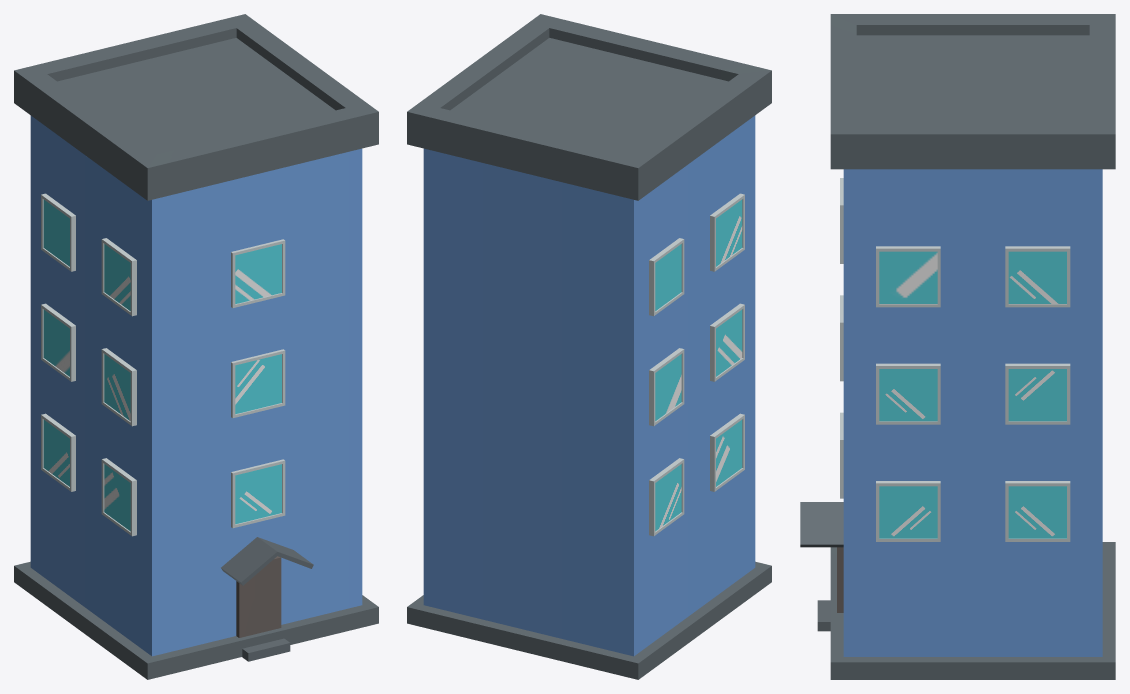
File: building.fbx
3 views of the same model, side by side, from view 1: azimuth 30°, elevation 25°; view 2: azimuth 150°, elevation 25°; view 3: azimuth 270°, elevation 25° (orthographic). The views are drawn at different scales.
Visible parts, largest first — view 1: Cube.002, Cube.004, Cube.003, Cylinder.010, Cube.005; view 2: Cube.002, Cube.004; view 3: Cube.002, Cube.004, Cylinder.010.
Part boxes in pixels (box(x1,y1,x2,y2)): Cube.002: box(14, 14, 378, 679); Cube.004: box(41, 193, 285, 536); Cube.003: box(236, 556, 281, 637); Cylinder.010: box(221, 537, 313, 585); Cube.005: box(242, 638, 290, 661); Cube.002: box(407, 14, 771, 679); Cube.004: box(649, 193, 744, 536); Cube.002: box(830, 14, 1115, 679); Cube.004: box(840, 178, 1070, 541); Cylinder.010: box(800, 502, 843, 547).
Size of the model in its own units: 4.4 by 9.31 by 4.87.
1 material, 1 textured.
